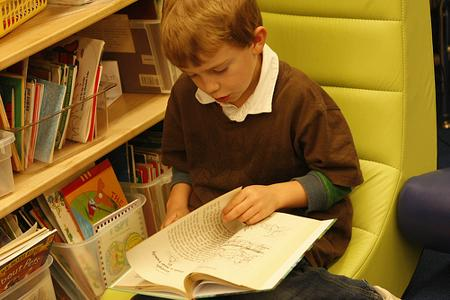person: (129, 2, 402, 300)
